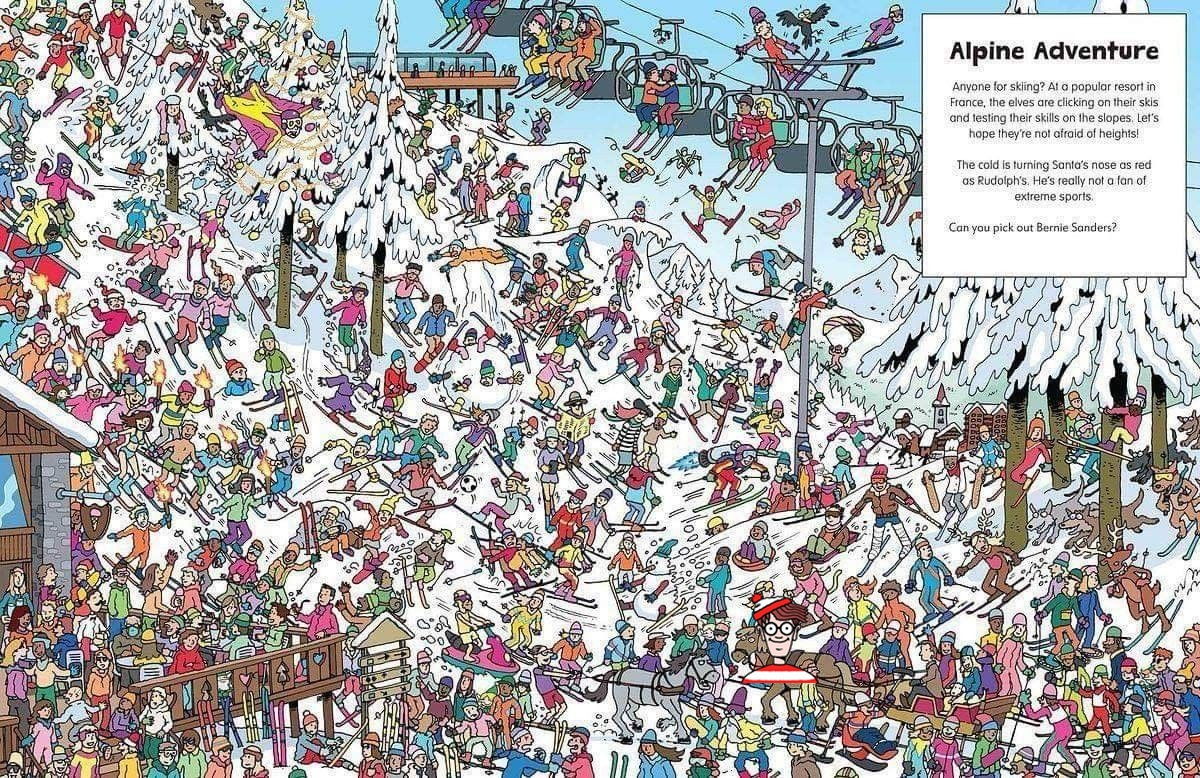waldo: (740, 591, 819, 683)
